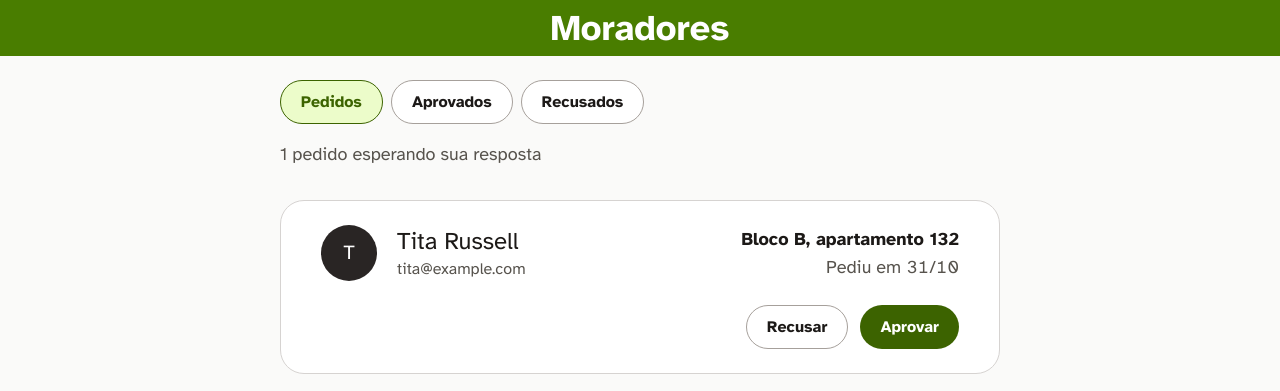
Test: Residents, changing a decision › lists the approved residents without their e-mail
Click the button "Aprovados" at (452, 102), box [391, 80, 513, 124]
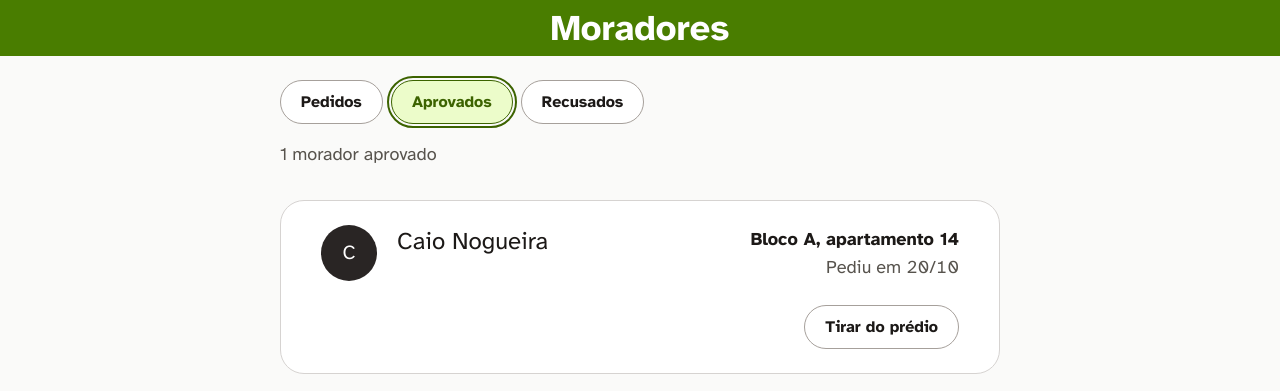
Expected: the text "Bloco A, apartamento 14" is shown, [751, 225, 959, 253]
Expected: the list item "Caio Nogueira" no longer shows "@", [280, 200, 1000, 374]
Expected: the text "1 morador aprovado" is shown, [280, 143, 437, 165]
